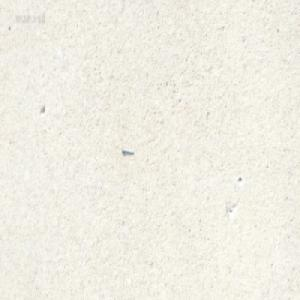Nail: (120, 145, 133, 154)
